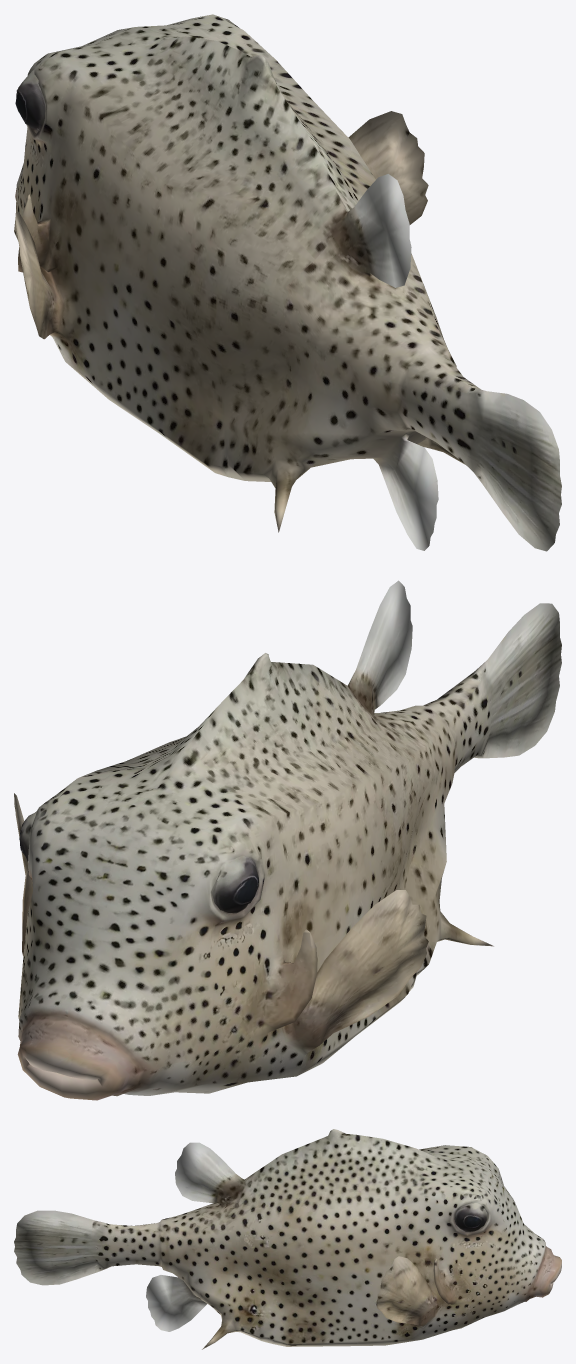
The model's file is koffervis.glb.
3 views of the same model, one above another, from view 1: azimuth 30°, elevation 25°; view 2: azimuth 150°, elevation 25°; view 3: azimuth 270°, elevation 25° (orthographic). The views are drawn at different scales.
Visible parts, largest first — view 1: tripo_node_4f7f12a1-83b2-4ae6-83fa-d37e650bde54; view 2: tripo_node_4f7f12a1-83b2-4ae6-83fa-d37e650bde54; view 3: tripo_node_4f7f12a1-83b2-4ae6-83fa-d37e650bde54.
Boxes of the visible parts, <box> form: tripo_node_4f7f12a1-83b2-4ae6-83fa-d37e650bde54: <box>14,14,561,551</box>; tripo_node_4f7f12a1-83b2-4ae6-83fa-d37e650bde54: <box>14,580,561,1100</box>; tripo_node_4f7f12a1-83b2-4ae6-83fa-d37e650bde54: <box>14,1129,561,1349</box>.
Size of the model in its own units: 0.2811 by 0.25 by 0.6112.
Materials: 1 (1 with a texture image).
